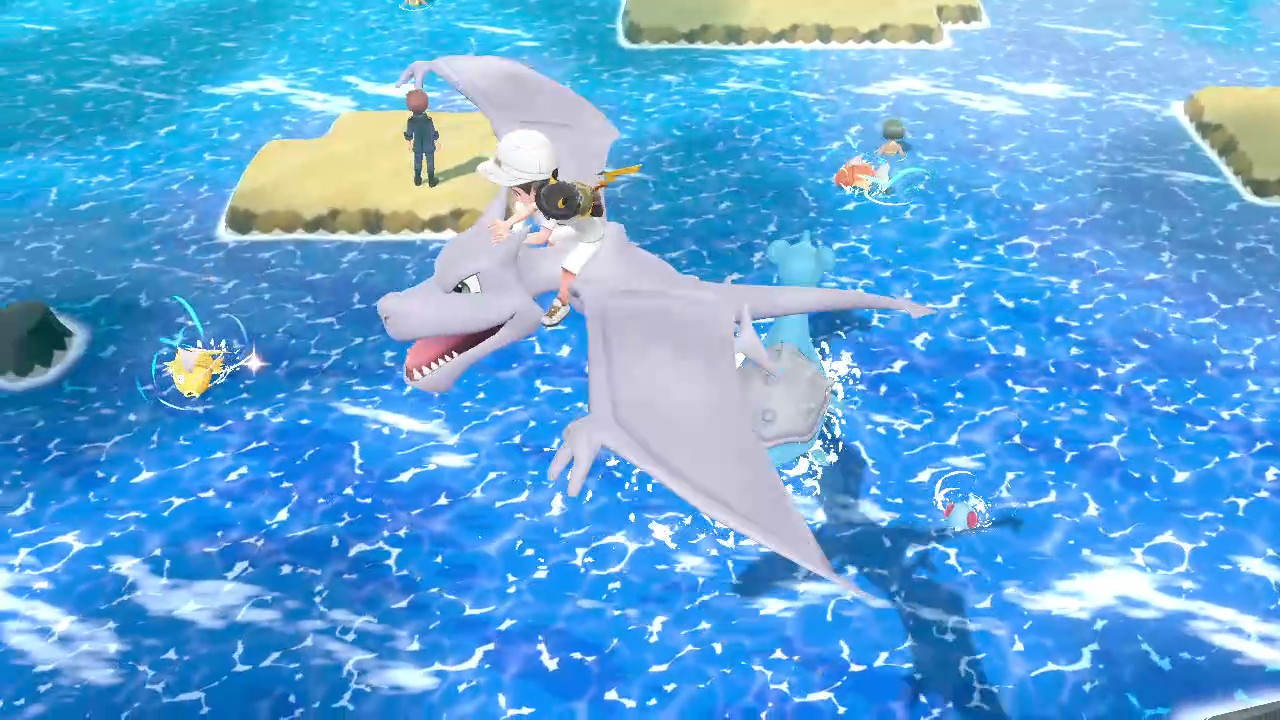Golden: (161, 342, 226, 400)
